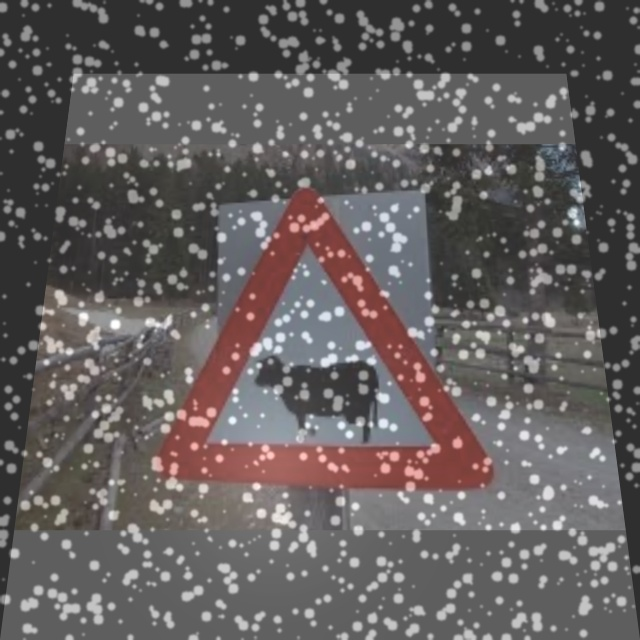Cattle: (159, 199, 483, 493)
